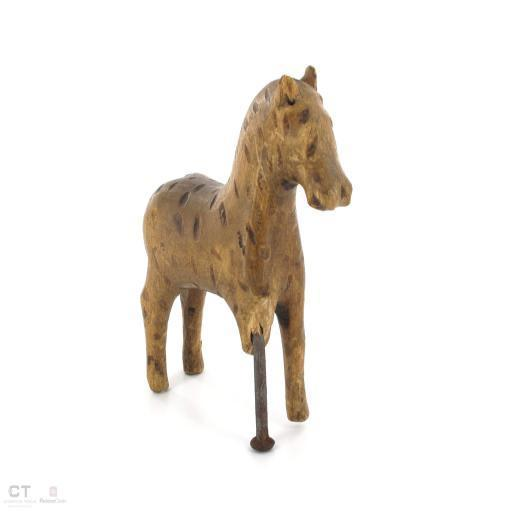horse: (138, 63, 354, 452)
